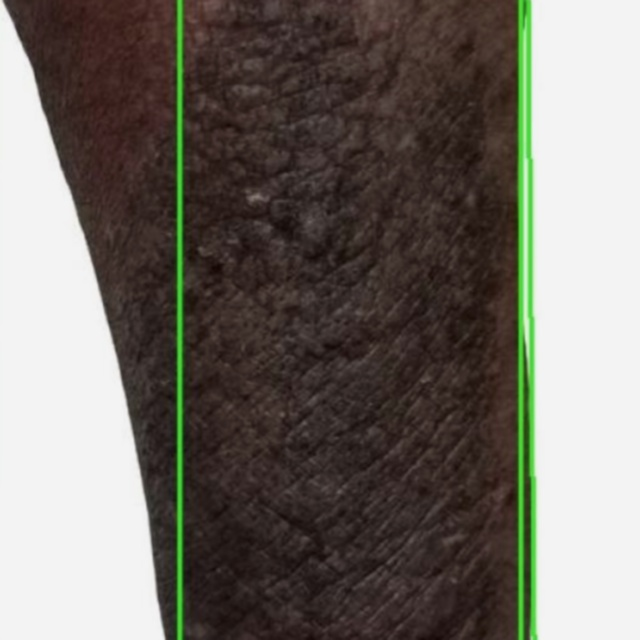Eczema: (0, 0, 533, 639)
